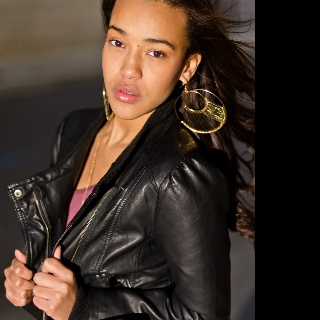without_mask: (101, 0, 187, 118)
